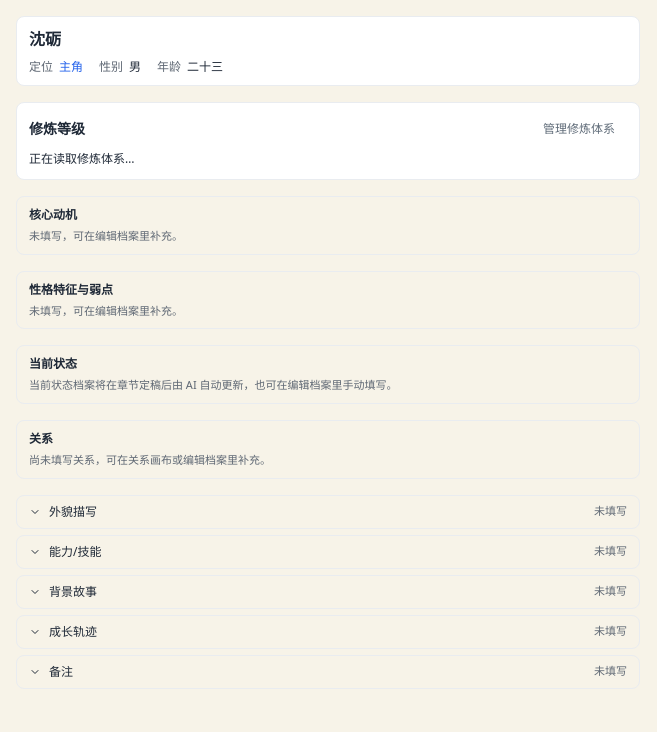
character profile detail sections › keeps an empty section compact instead of leaving a large blank block
Click the heading with test id "profile-detail-summary" showing "能力/技能 未填写": click(75, 551) [29,543,627,560]
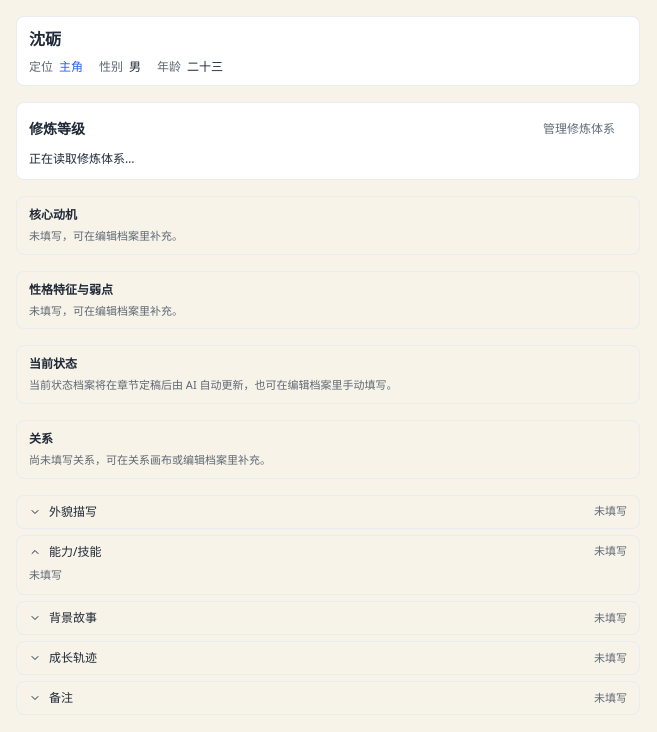
Expected: the element with test id "profile-detail-body" reads "未填写", [29,567,62,582]
